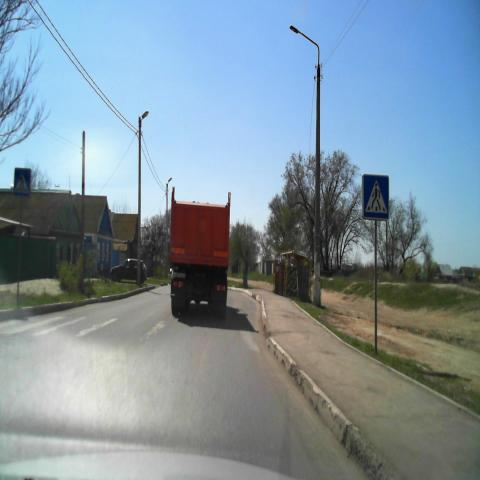5_19_1: (12, 167, 31, 197)
